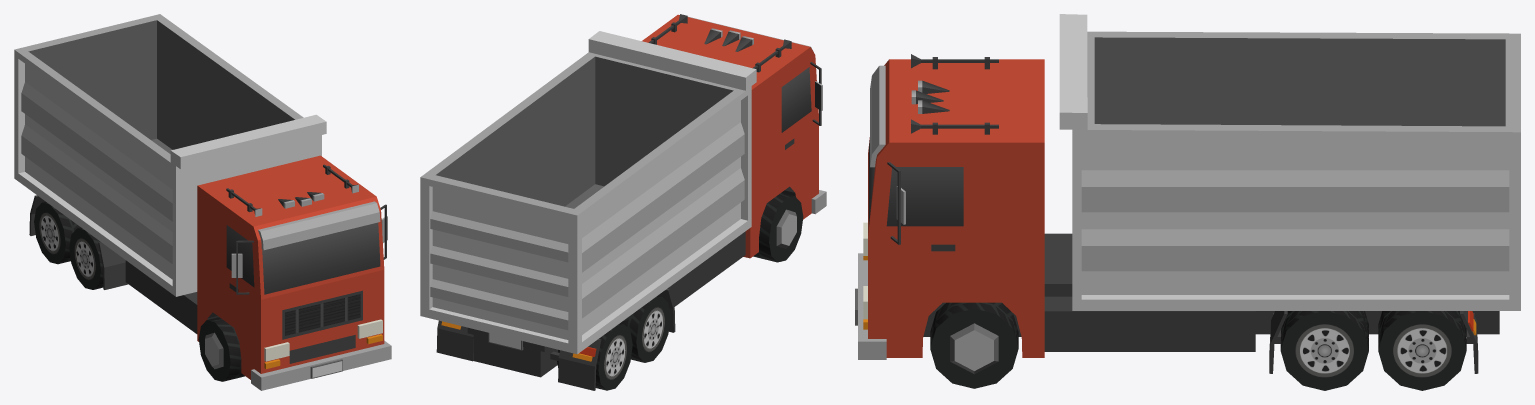
File: TruckEuropeanC.fbx
The picture shows the model from 3 angles, left to right: view 1: azimuth 30°, elevation 25°; view 2: azimuth 150°, elevation 25°; view 3: azimuth 270°, elevation 25°; orthographic projection. The views are drawn at different scales.
Parts seen in each view (by area): view 1: TruckEuropeanC, TireFR, TireBRY, TireBRX; view 2: TruckEuropeanC, TireFR, TireBRX, TireBRY; view 3: TruckEuropeanC, TireFL, TireBLY, TireBLX.
Part boxes in pixels (bbox=[...]): TruckEuropeanC: bbox=[14, 14, 391, 390]; TireFR: bbox=[198, 317, 244, 381]; TireBRY: bbox=[34, 201, 80, 264]; TireBRX: bbox=[69, 227, 103, 289]; TruckEuropeanC: bbox=[420, 14, 826, 390]; TireFR: bbox=[753, 192, 803, 262]; TireBRX: bbox=[620, 295, 670, 362]; TireBRY: bbox=[557, 323, 632, 390]; TruckEuropeanC: bbox=[855, 14, 1520, 373]; TireFL: bbox=[930, 302, 1018, 388]; TireBLY: bbox=[1378, 311, 1466, 390]; TireBLX: bbox=[1280, 311, 1368, 390].
Bounding box in the file's own units: 241 × 296 × 641.
